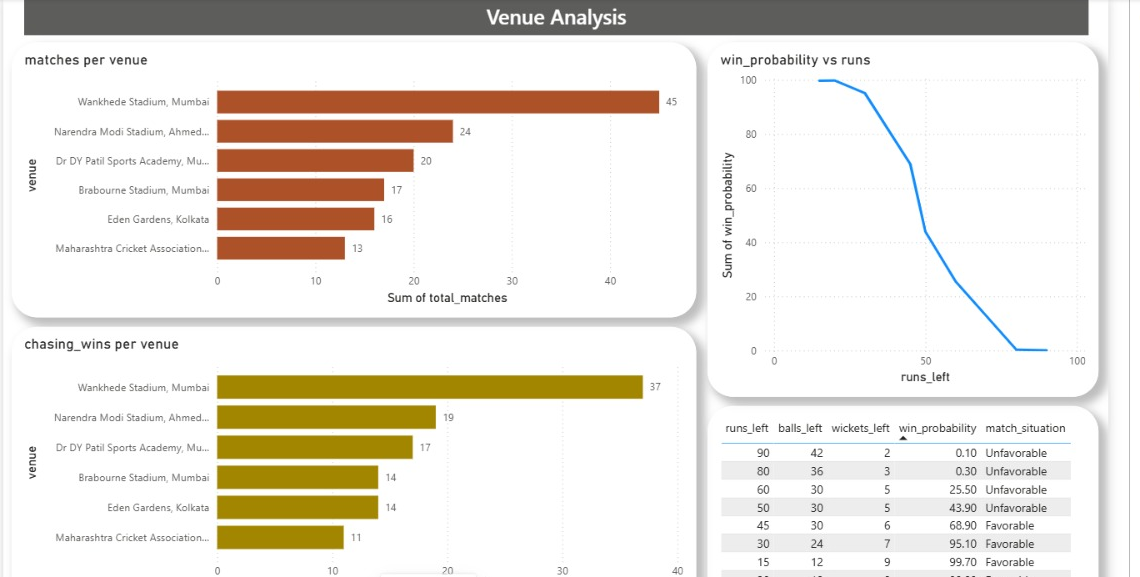

The dashboard page shown, as its layout file describes it:
{"tool":"powerbi","page":{"name":"venue analysis","canvas":[1280,720],"ordinal":2},"visuals":[{"type":"barChart","title":"matches per venue","fields":{"Category":["venue_stats.venue"],"Y":["Sum(venue_stats.total_matches)"]},"box":[10.2,51.1,792.8,318.4],"z":0},{"type":"barChart","title":"chasing_wins per venue","fields":{"Category":["venue_stats.venue"],"Y":["Sum(venue_stats.chasing_wins)"]},"box":[10.2,379.8,792.8,324.8],"z":1000},{"type":"lineChart","title":" win_probability vs runs","fields":{"Category":["match_simulator.runs_left"],"Y":["Sum(match_simulator.win_probability)"]},"box":[815.8,51.1,452.7,410.5],"z":2000},{"type":"tableEx","fields":{"Values":["match_simulator.runs_left","match_simulator.balls_left","match_simulator.wickets_left","match_simulator.win_probability","match_simulator.match_situation"]},"box":[815.8,471.8,452.7,232.7],"z":3000},{"type":"textbox","box":[24.3,0,1232.7,42.2],"z":3001}]}

Visuals, with their boxes on the page's 1280x720 design canvas (x1, y1, x2, y2). These are canvas units, not pixel positions in the 1140x577 screenshot, which may show the page scaled, cropped or inside an application window:
"matches per venue" barChart: bbox=[10, 51, 803, 370]
"chasing_wins per venue" barChart: bbox=[10, 380, 803, 705]
" win_probability vs runs" lineChart: bbox=[816, 51, 1268, 462]
tableEx - match_simulator.runs_left x match_simulator.balls_left: bbox=[816, 472, 1268, 704]
textbox: bbox=[24, 0, 1257, 42]
